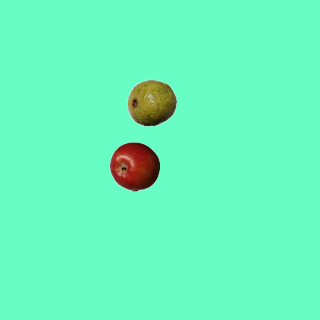Apple Braeburn: (109, 141, 159, 191)
Guava: (126, 77, 176, 127)
